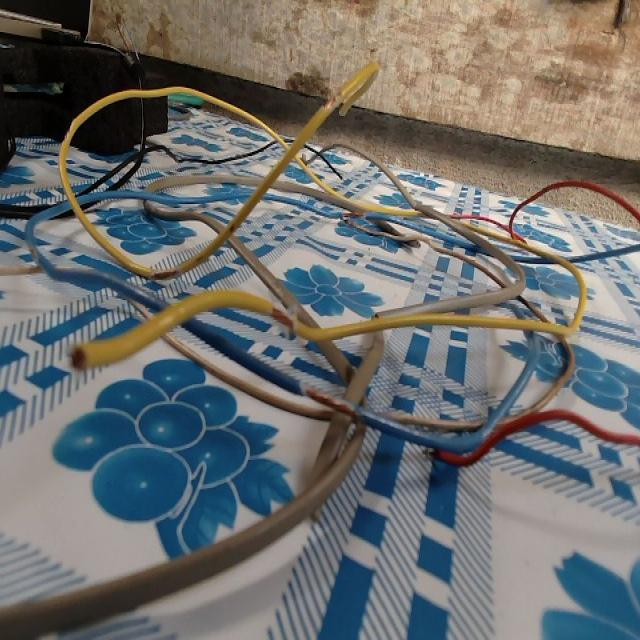-: (296, 376, 360, 425), (267, 303, 297, 336), (146, 264, 184, 285), (69, 341, 90, 375), (319, 87, 347, 112), (339, 203, 367, 220)
